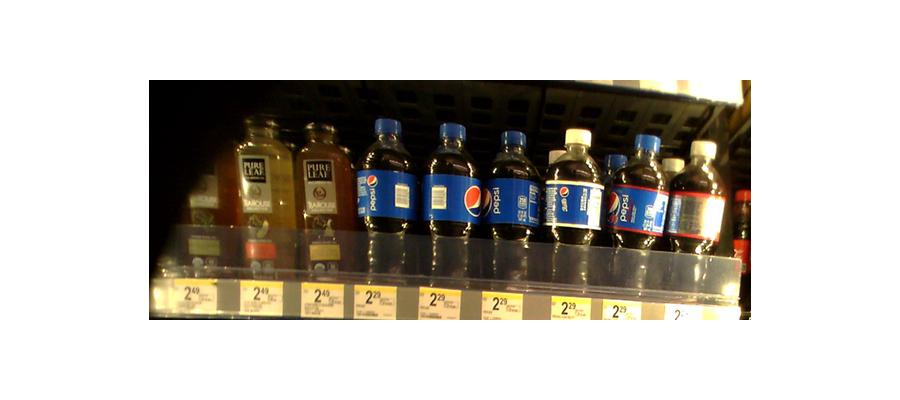bottle: (666, 133, 725, 298), (422, 122, 482, 284), (543, 127, 603, 288), (359, 115, 416, 282), (296, 116, 354, 278), (608, 129, 664, 295), (237, 110, 292, 278), (487, 125, 538, 288), (180, 145, 227, 270)
